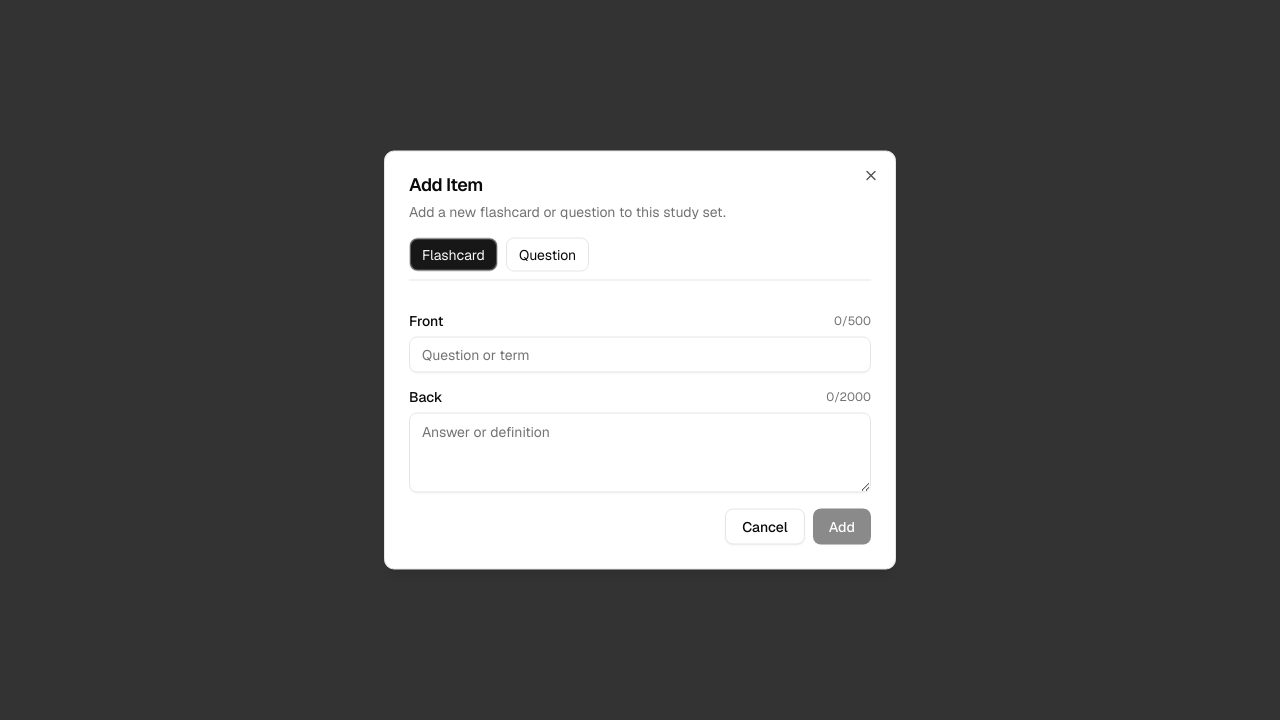
Test: AddItemModal › tab switching › switches back to flashcard form when Flashcard tab is clicked
// First switch to question
What coordinates should you click on to do the following:
click the button "Question"
I would click on:
 (548, 254)
Its box is x1=506 y1=238 x2=589 y2=272.
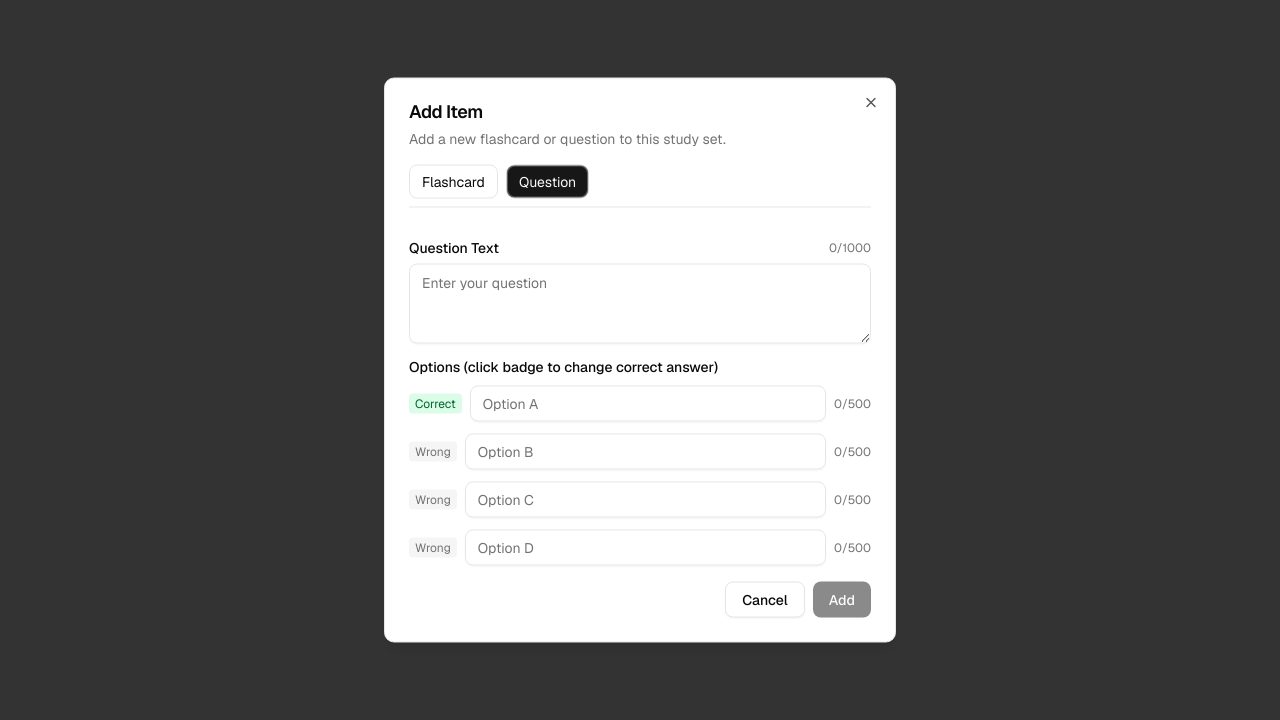
// Then switch back to flashcard
What coordinates should you click on to do the following:
click the button "Flashcard"
I would click on:
 (453, 182)
Its box is x1=409 y1=164 x2=498 y2=198.
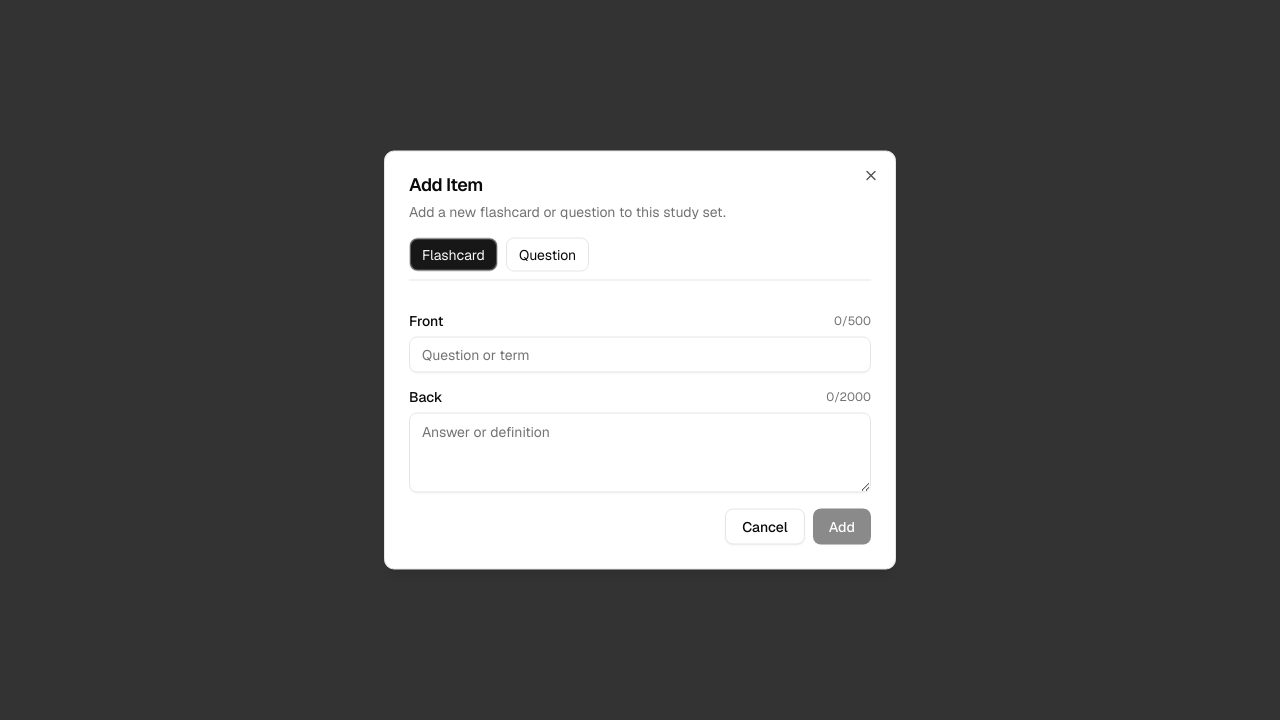
Expected: the field labelled "Front" is shown, x1=409 y1=336 x2=871 y2=372
